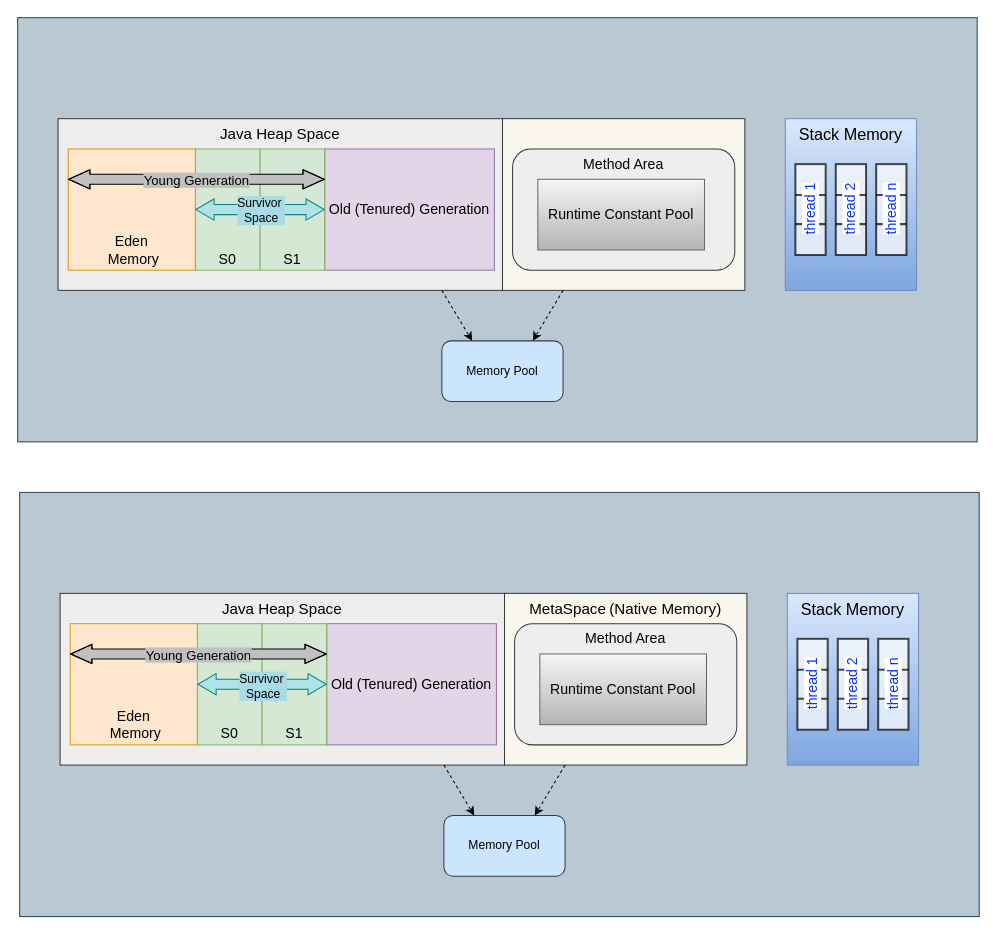
Some shapes in this 997 by 934 pixel diagram are drawn without their labels. Each missing label, with the box of its shape:
Java Memory Model - From Java 8: (19, 491, 979, 917)
Java Memory Model - Till Java 7: (17, 17, 977, 442)
Permanent Generation: (501, 118, 745, 290)
